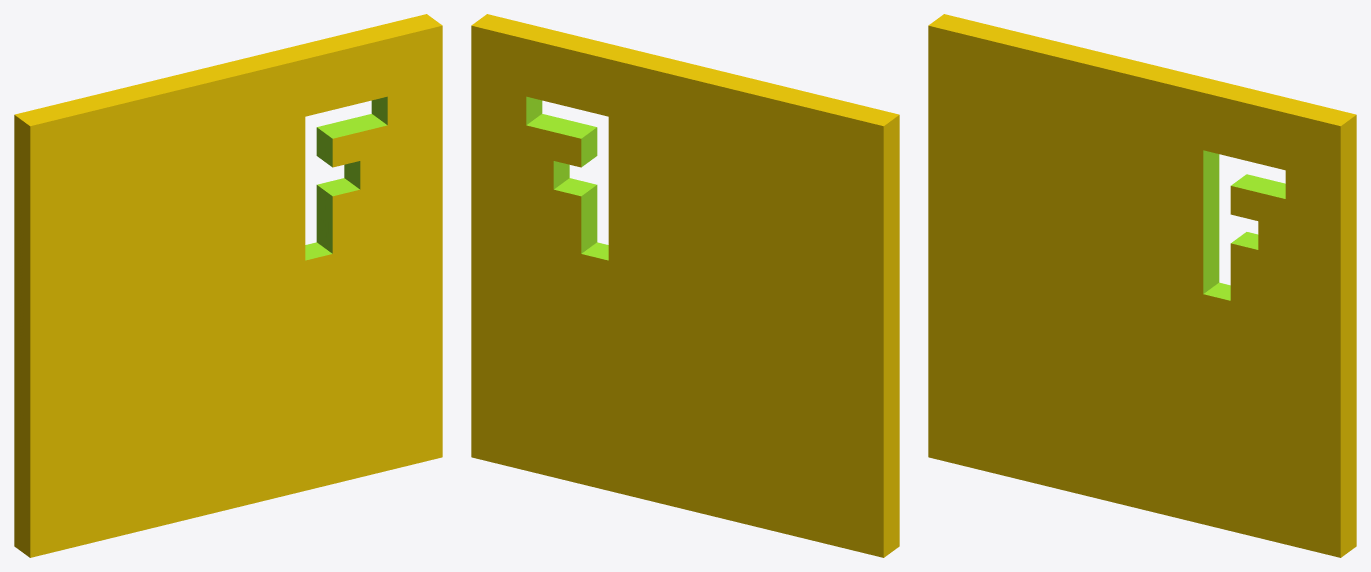
File: lettreFdock.obj
The picture shows the model from 3 angles, left to right: view 1: azimuth 30°, elevation 25°; view 2: azimuth 150°, elevation 25°; view 3: azimuth 330°, elevation 25°; orthographic projection.
Size of the model in its own units: 0.15 by 0.15 by 0.01.
